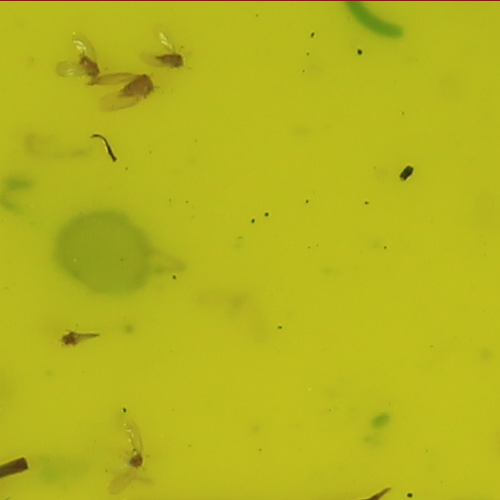psylla: (120, 73, 157, 100), (76, 51, 103, 79), (157, 52, 187, 64)
